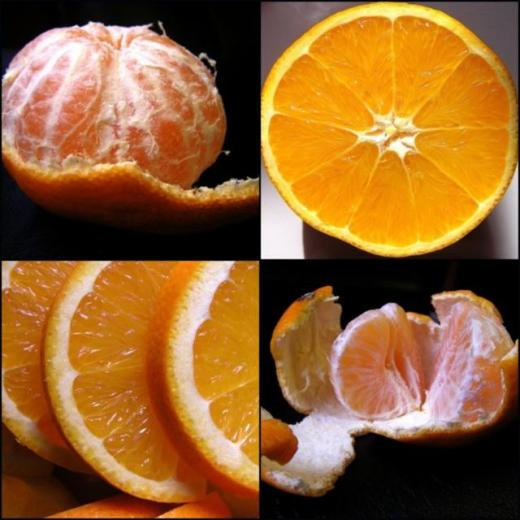Grape: (262, 0, 520, 249), (2, 260, 264, 499), (271, 286, 519, 491), (0, 19, 259, 212), (46, 493, 167, 517), (162, 493, 230, 519)
